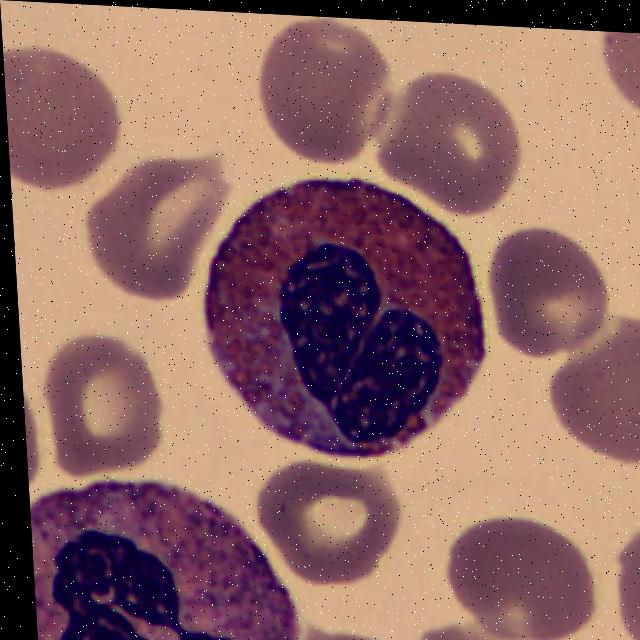eosinophil: (184, 156, 495, 468), (28, 480, 304, 640)
rbc: (237, 13, 412, 172), (33, 305, 166, 488), (374, 66, 528, 223), (432, 508, 607, 640), (2, 26, 125, 209), (482, 225, 616, 385), (78, 149, 214, 302), (255, 459, 405, 596), (544, 309, 640, 478), (609, 517, 640, 640), (22, 373, 40, 502), (412, 623, 546, 640), (303, 621, 405, 640)
